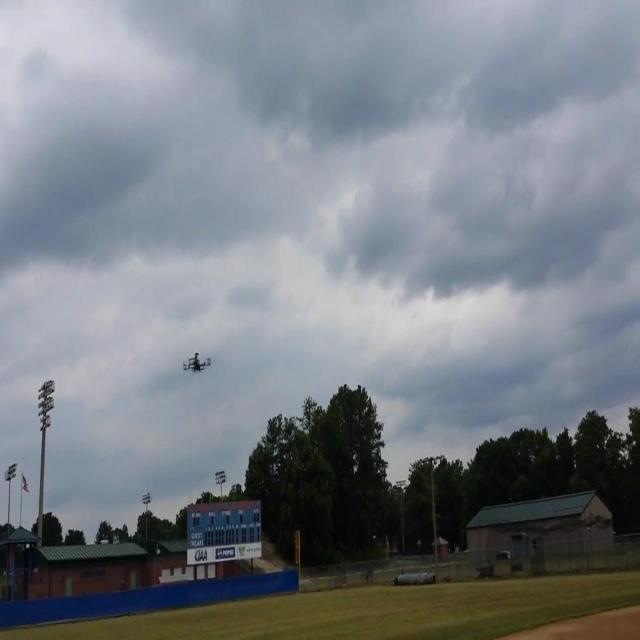UAV: (183, 353, 212, 373)
